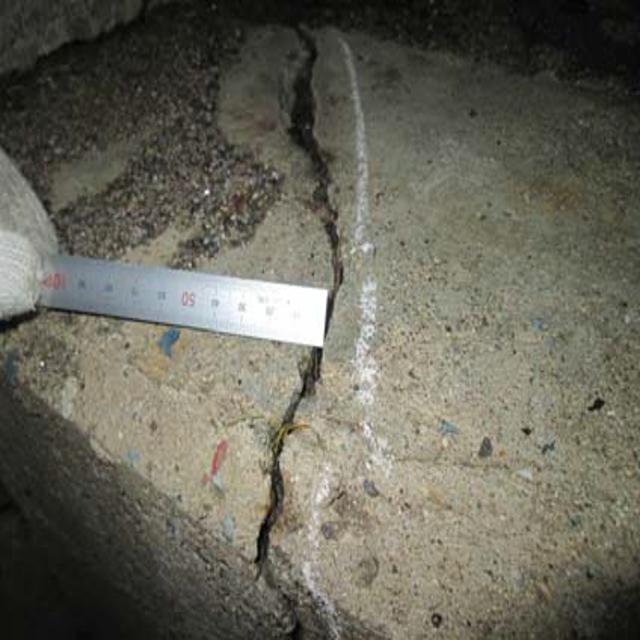crack: (259, 33, 360, 631)
